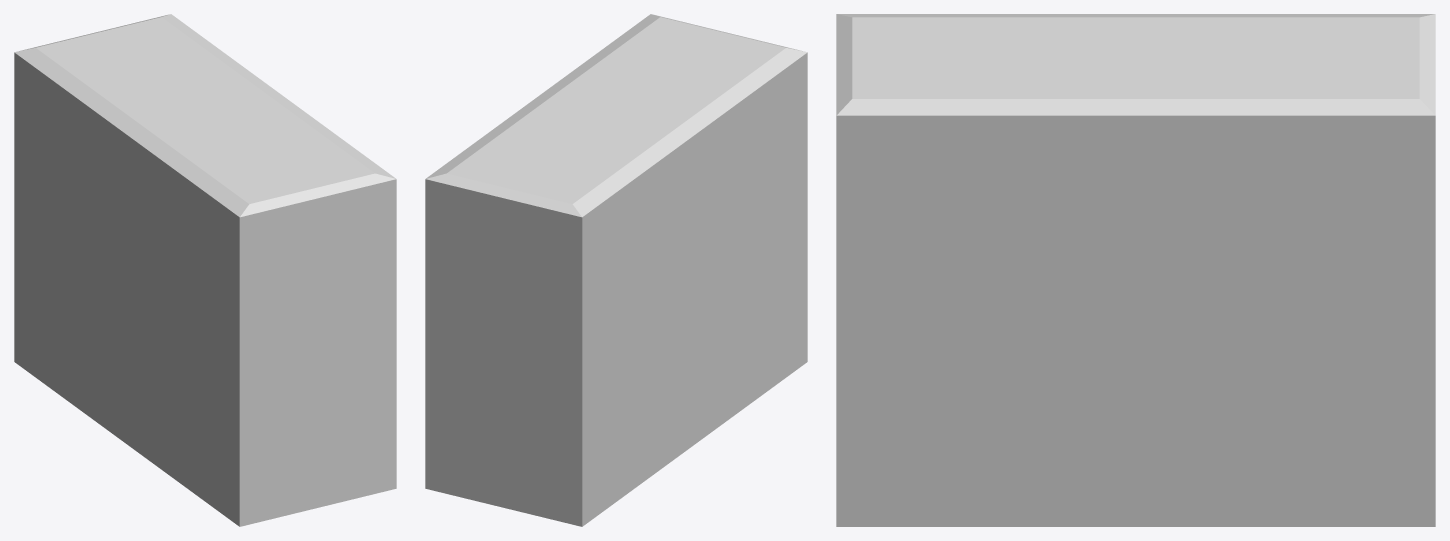
File: Itr_Couch_Outside_Side_06.FBX
The picture shows the model from 3 angles, left to right: view 1: azimuth 30°, elevation 25°; view 2: azimuth 150°, elevation 25°; view 3: azimuth 270°, elevation 25°; orthographic projection. The views are drawn at different scales.
Visible parts, largest first — view 1: Itr_Couch_Outside_Side_06; view 2: Itr_Couch_Outside_Side_06; view 3: Itr_Couch_Outside_Side_06.
Part boxes in pixels (<box>): Itr_Couch_Outside_Side_06: <box>14,14,396,526</box>; Itr_Couch_Outside_Side_06: <box>425,14,807,526</box>; Itr_Couch_Outside_Side_06: <box>836,14,1435,526</box>.
Size of the model in its own units: 13.12 by 25.52 by 32.64.
